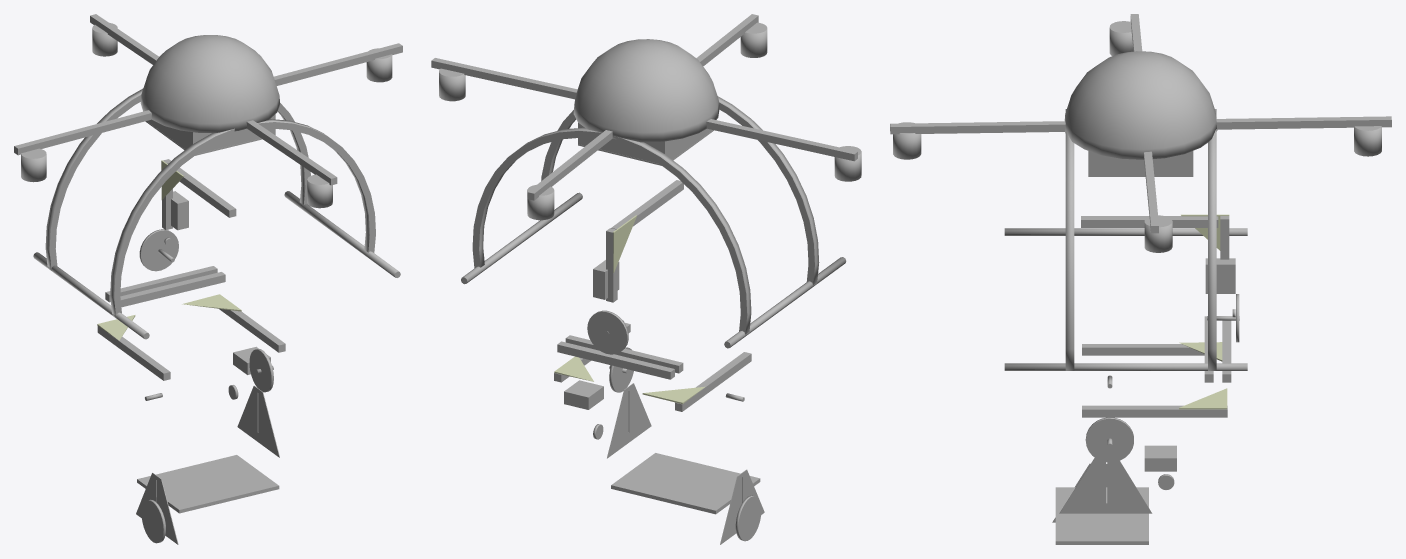
The model's file is QuadXL-noCamera5.DAE.
3 views of the same model, side by side, from view 1: azimuth 30°, elevation 25°; view 2: azimuth 150°, elevation 25°; view 3: azimuth 270°, elevation 25° (orthographic). The views are drawn at different scales.
Visible parts, largest first — view 1: Quadro_Bulle, Quadro_TrainAvant, Box007, Quadro_BrasLateral, Quadro_TrainArriere, Box008, Box003, Cylinder002, Quadro_BlocBatterie, Quadro_brasLongitudinalAvant, Quadro_TrainGche, Quadro_TrainDte (+14 smaller); view 2: Quadro_Bulle, Quadro_TrainArriere, Box007, Quadro_BrasLateral, Quadro_TrainAvant, Box008, Box004, Cylinder002, Quadro_BlocBatterie, Quadro_brasLongitudinalArriere, Quadro_TrainGche, Quadro_TrainDte (+15 smaller); view 3: Quadro_Bulle, Box007, Box008, Quadro_TrainAvant, Quadro_TrainArriere, Quadro_brasLongitudinalAvant, Quadro_brasLongitudinalArriere, Quadro_BlocBatterie, Quadro_TrainGche, Cylinder005, Box005, Quadro_TrainDte (+10 smaller).
Part boxes in pixels (x1=…): Quadro_Bulle: x1=140, y1=35, x2=280, y2=132; Quadro_TrainAvant: x1=110, y1=119, x2=375, y2=317; Box007: x1=137, y1=455, x2=279, y2=513; Quadro_BrasLateral: x1=14, y1=43, x2=402, y2=155; Quadro_TrainArriere: x1=45, y1=88, x2=310, y2=270; Box008: x1=237, y1=385, x2=279, y2=457; Box003: x1=120, y1=272, x2=225, y2=307; Cylinder002: x1=139, y1=229, x2=178, y2=271; Quadro_BlocBatterie: x1=147, y1=114, x2=275, y2=153; Quadro_brasLongitudinalAvant: x1=246, y1=120, x2=337, y2=185; Quadro_TrainGche: x1=284, y1=191, x2=400, y2=277; Quadro_TrainDte: x1=33, y1=252, x2=149, y2=339; Quadro_Bulle: x1=573, y1=39, x2=719, y2=142; Quadro_TrainArriere: x1=472, y1=127, x2=751, y2=336; Box007: x1=611, y1=453, x2=760, y2=514; Quadro_BrasLateral: x1=431, y1=58, x2=857, y2=161; Quadro_TrainAvant: x1=541, y1=96, x2=819, y2=286; Box008: x1=607, y1=383, x2=651, y2=458; Box004: x1=557, y1=341, x2=674, y2=379; Cylinder002: x1=587, y1=310, x2=628, y2=354; Quadro_BlocBatterie: x1=578, y1=123, x2=712, y2=163; Quadro_brasLongitudinalArriere: x1=527, y1=130, x2=612, y2=200; Quadro_TrainGche: x1=461, y1=192, x2=582, y2=284; Quadro_TrainDte: x1=724, y1=257, x2=846, y2=348; Quadro_Bulle: x1=1064, y1=51, x2=1217, y2=159; Box007: x1=1055, y1=487, x2=1148, y2=544; Box008: x1=1059, y1=458, x2=1152, y2=513; Quadro_TrainAvant: x1=1065, y1=109, x2=1074, y2=370; Quadro_TrainArriere: x1=1208, y1=109, x2=1216, y2=370; Quadro_brasLongitudinalAvant: x1=890, y1=121, x2=1065, y2=134; Quadro_brasLongitudinalArriere: x1=1216, y1=116, x2=1391, y2=129; Quadro_BlocBatterie: x1=1088, y1=151, x2=1193, y2=175; Quadro_TrainGche: x1=1004, y1=363, x2=1247, y2=370; Cylinder005: x1=1085, y1=417, x2=1133, y2=462; Box005: x1=1082, y1=405, x2=1227, y2=417; Quadro_TrainDte: x1=1004, y1=228, x2=1247, y2=235.
Size of the model in its own units: 0.6199 by 0.62 by 0.7017.
